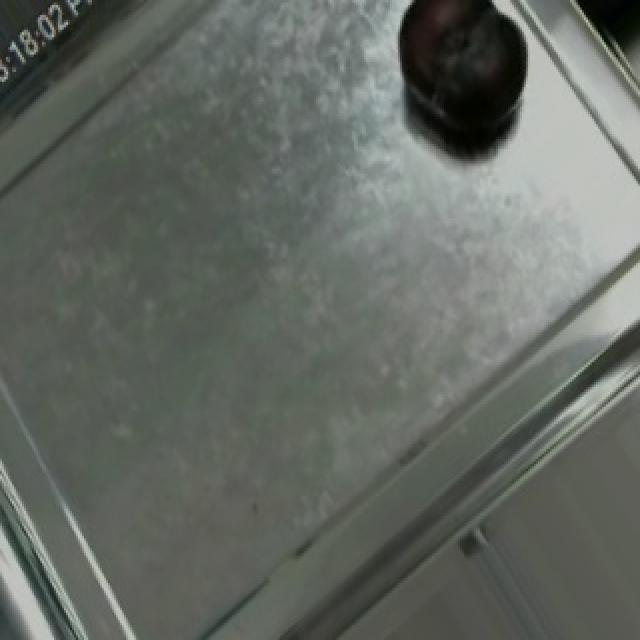Fruit: (378, 0, 548, 166), (550, 0, 640, 87)
